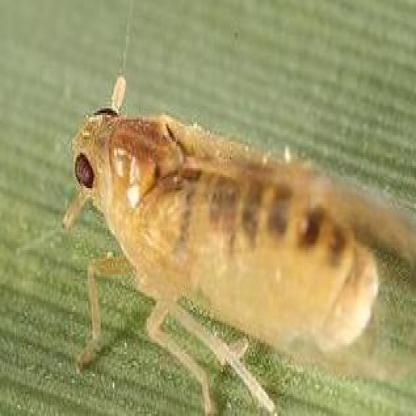brown-planthopper: (78, 105, 374, 352)
